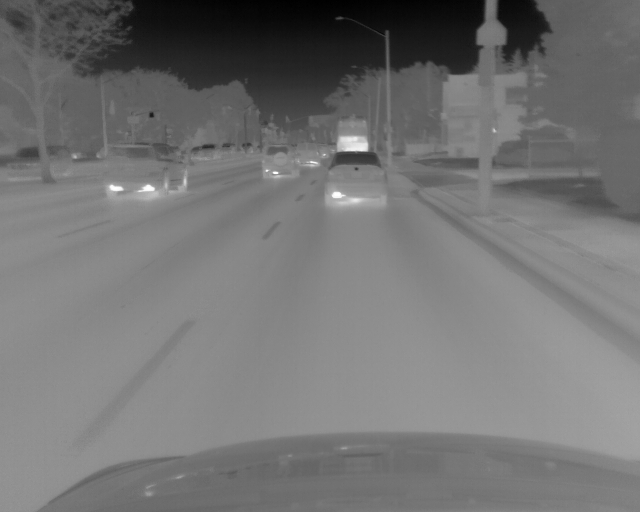car: (99, 143, 191, 200), (323, 152, 386, 208), (4, 144, 73, 182), (259, 145, 300, 180), (335, 117, 369, 156), (298, 144, 318, 169), (318, 143, 328, 160)
